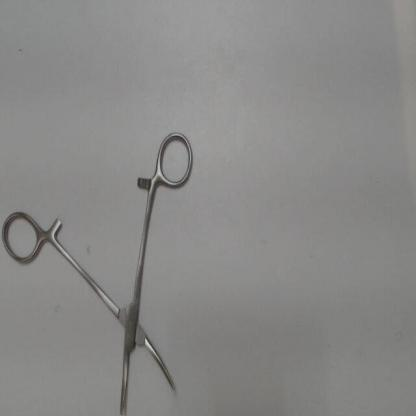Crile Artery Forceps: (1, 126, 199, 414)
